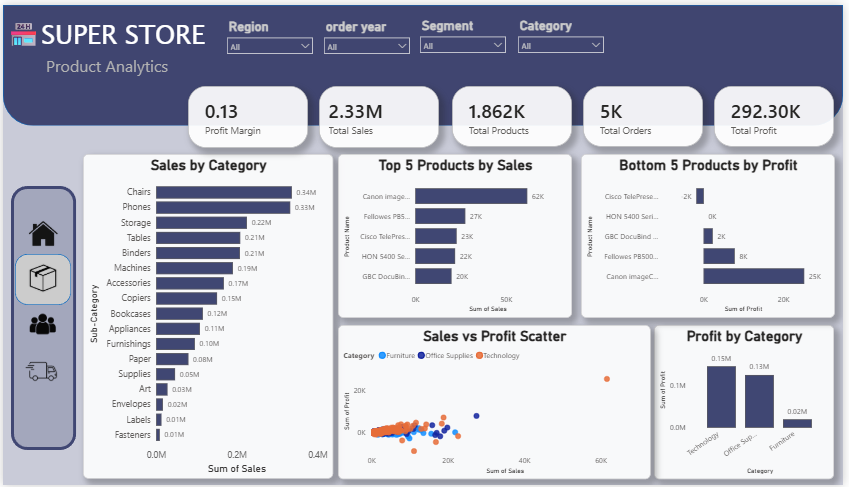

This screenshot's page, from the dashboard's own definition file:
{"tool":"powerbi","page":{"name":"Product Dashboard","canvas":[1400,800],"ordinal":1},"visuals":[{"type":"textbox","box":[66.7,133.3,75,70],"z":0},{"type":"shape","box":[12.9,301.4,108.6,440],"z":1000},{"type":"clusteredBarChart","title":"Sales by Category","fields":{"Y":["Sum(Orders.Sales)"],"Category":["Orders.Sub-Category"]},"box":[132.9,248.6,417.1,541.4],"z":2000},{"type":"columnChart","title":"Profit by Category","fields":{"Category":["Orders.Category"],"Y":["Sum(Orders.Profit)"]},"box":[1085.7,532.9,300,257.1],"z":3000},{"type":"shape","box":[0,0,1400,201.4],"z":4000},{"type":"textbox","box":[0,12.9,364.3,78.6],"z":5000},{"type":"slicer","fields":{"Values":["Orders.Segment"]},"box":[685.7,17.1,162.9,72.9],"z":6000},{"type":"slicer","fields":{"Values":["Orders.Region"]},"box":[364,18,163,74],"z":7000},{"type":"slicer","fields":{"Values":["Orders.order year"]},"box":[525,18,163,73],"z":8000},{"type":"textbox","box":[67.1,78.6,241.4,55.7],"z":9000},{"type":"cardVisual","fields":{"Data":["Orders.Profit Margin"]},"box":[308.6,134.3,200,102.9],"z":10000},{"type":"cardVisual","fields":{"Data":["Sum(Orders.Sales)"]},"box":[527.1,134.3,200,102.9],"z":11000},{"type":"cardVisual","fields":{"Data":["Orders.Total Orders"]},"box":[967.1,135.7,200,101.4],"z":12000},{"type":"cardVisual","fields":{"Data":["Count(Orders.Product ID)"]},"box":[748.6,135.7,200,101.4],"z":13000},{"type":"shape","box":[20,415,93.3,85],"z":13500},{"type":"cardVisual","fields":{"Data":["Sum(Orders.Profit)"]},"box":[1185.7,135.7,200,101.4],"z":14000},{"type":"image","box":[37.1,577.1,54.3,68.6],"z":15000},{"type":"image","box":[34.3,347.1,64.3,68.6],"z":16000},{"type":"image","box":[37.1,415.7,60,80],"z":17000},{"type":"image","box":[37.1,497.1,58.6,70],"z":18000},{"type":"slicer","fields":{"Values":["Orders.Category"]},"box":[848.6,17.1,162.9,72.9],"z":19000},{"type":"clusteredBarChart","title":"Top 5 Products by Sales","fields":{"Y":["Sum(Orders.Sales)"],"Category":["Orders.Product Name"]},"box":[558.6,248.6,390,272.9],"z":20000},{"type":"clusteredBarChart","title":"Bottom 5 Products by Profit","fields":{"Y":["Sum(Orders.Profit)"],"Category":["Orders.Product Name"]},"box":[962.9,248.6,422.9,272.9],"z":21000},{"type":"scatterChart","title":"Sales vs Profit Scatter","fields":{"Category":["Orders.Product Name"],"X":["Sum(Orders.Sales)"],"Y":["Sum(Orders.Profit)"],"Series":["Orders.Category"]},"box":[558.6,532.9,520.7,257.1],"z":22000}]}

Visuals, with their boxes in screenshot pixels (x1, y1, x2, y2), scaled from the page's 1400x800 canvas onto the 849x487 screenshot:
textbox: 40,81,86,124
shape: 8,183,74,451
"Sales by Category" clusteredBarChart: 81,151,334,481
"Profit by Category" columnChart: 658,324,840,481
shape: 0,0,848,123
textbox: 0,8,221,56
slicer - Orders.Segment: 416,10,515,55
slicer - Orders.Region: 221,11,320,56
slicer - Orders.order year: 318,11,417,55
textbox: 41,48,187,82
cardVisual - Orders.Profit Margin: 187,82,308,144
cardVisual - Sum(Orders.Sales): 320,82,441,144
cardVisual - Orders.Total Orders: 586,83,708,144
cardVisual - Count(Orders.Product ID): 454,83,575,144
shape: 12,253,69,304
cardVisual - Sum(Orders.Profit): 719,83,840,144
image: 22,351,55,393
image: 21,211,60,253
image: 22,253,59,302
image: 22,303,58,345
slicer - Orders.Category: 515,10,613,55
"Top 5 Products by Sales" clusteredBarChart: 339,151,575,317
"Bottom 5 Products by Profit" clusteredBarChart: 584,151,840,317
"Sales vs Profit Scatter" scatterChart: 339,324,655,481
